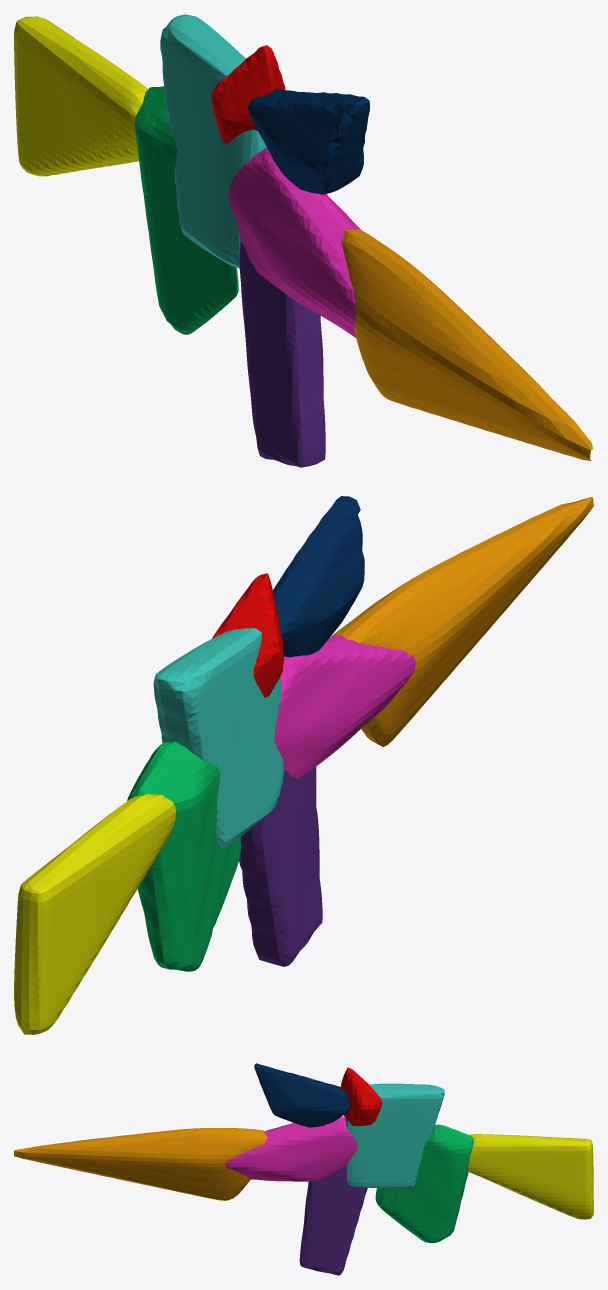
The picture shows the model from 3 angles, top to bottom: view 1: azimuth 30°, elevation 25°; view 2: azimuth 150°, elevation 25°; view 3: azimuth 270°, elevation 25°; orthographic projection. The views are drawn at different scales.
Visible parts, largest first — view 1: 1b4484ff850e4580a96eb29ade0c98a4_l00; view 2: 1b4484ff850e4580a96eb29ade0c98a4_l00; view 3: 1b4484ff850e4580a96eb29ade0c98a4_l00.
Boxes of the visible parts, x1=… form: 1b4484ff850e4580a96eb29ade0c98a4_l00: x1=14, y1=14, x2=592, y2=467; 1b4484ff850e4580a96eb29ade0c98a4_l00: x1=14, y1=496, x2=593, y2=1034; 1b4484ff850e4580a96eb29ade0c98a4_l00: x1=14, y1=1063, x2=593, y2=1275.
Bounding box in the file's own units: 0.1344 × 0.7916 × 1.98.
